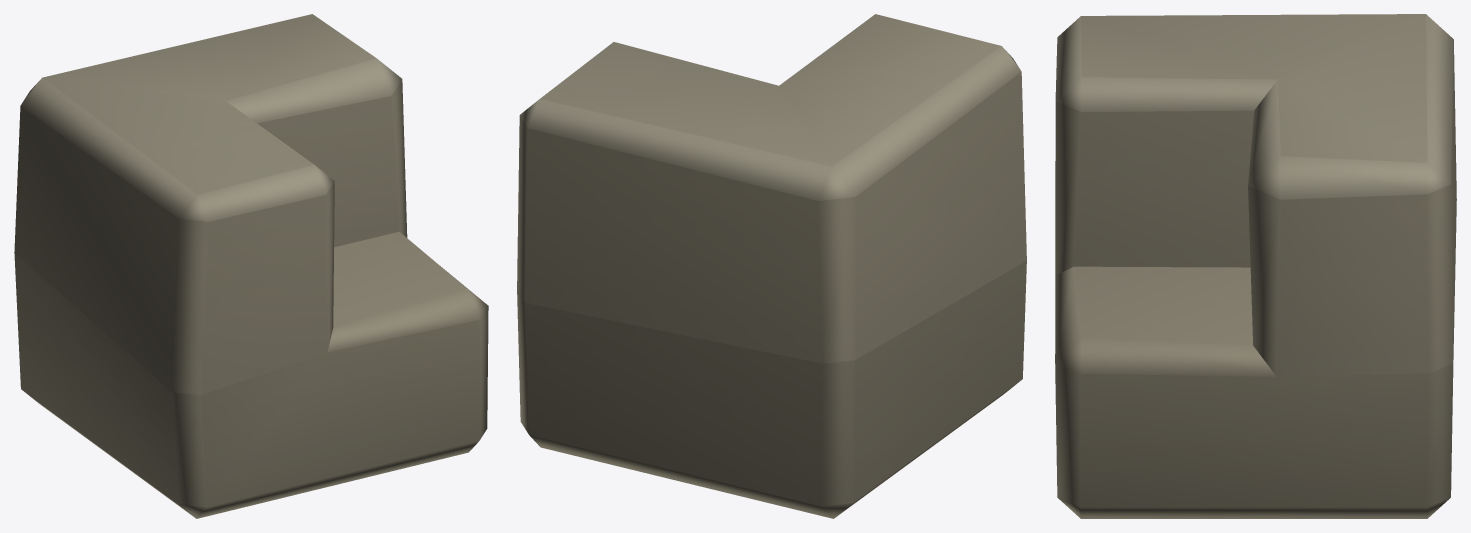
The model's file is orc_stair_corner_conc_shade_3.fbx.
The picture shows the model from 3 angles, left to right: view 1: azimuth 30°, elevation 25°; view 2: azimuth 150°, elevation 25°; view 3: azimuth 270°, elevation 25°; orthographic projection. The views are drawn at different scales.
Visible parts, largest first — view 1: orc_stair_corner_conc_shade_3; view 2: orc_stair_corner_conc_shade_3; view 3: orc_stair_corner_conc_shade_3.
Part boxes in pixels (x1,y1,x2,y2): orc_stair_corner_conc_shade_3: (14, 14, 488, 518); orc_stair_corner_conc_shade_3: (517, 14, 1026, 518); orc_stair_corner_conc_shade_3: (1055, 14, 1456, 518).
Bounding box in the file's own units: 52.26 × 50.74 × 51.02.
